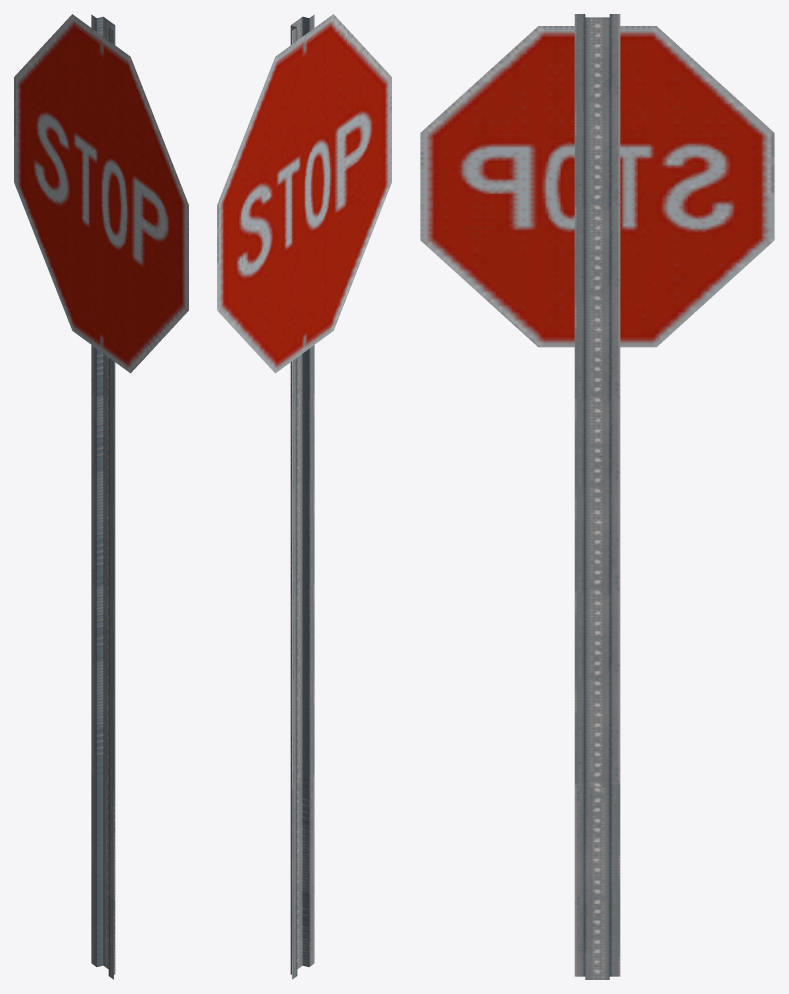
File: StopSign.glb
3 views of the same model, side by side, from view 1: azimuth 30°, elevation 25°; view 2: azimuth 150°, elevation 25°; view 3: azimuth 270°, elevation 25° (orthographic).
Visible parts, largest first — view 1: Plane; view 2: Plane; view 3: Plane.
Boxes of the visible parts, x1,y1,x2,y2 form: Plane: (14,14,188,979); Plane: (217,14,391,979); Plane: (420,14,774,979).
Bounding box in the file's own units: 0.1004 × 11.46 × 3.83.
1 material, 1 textured.
